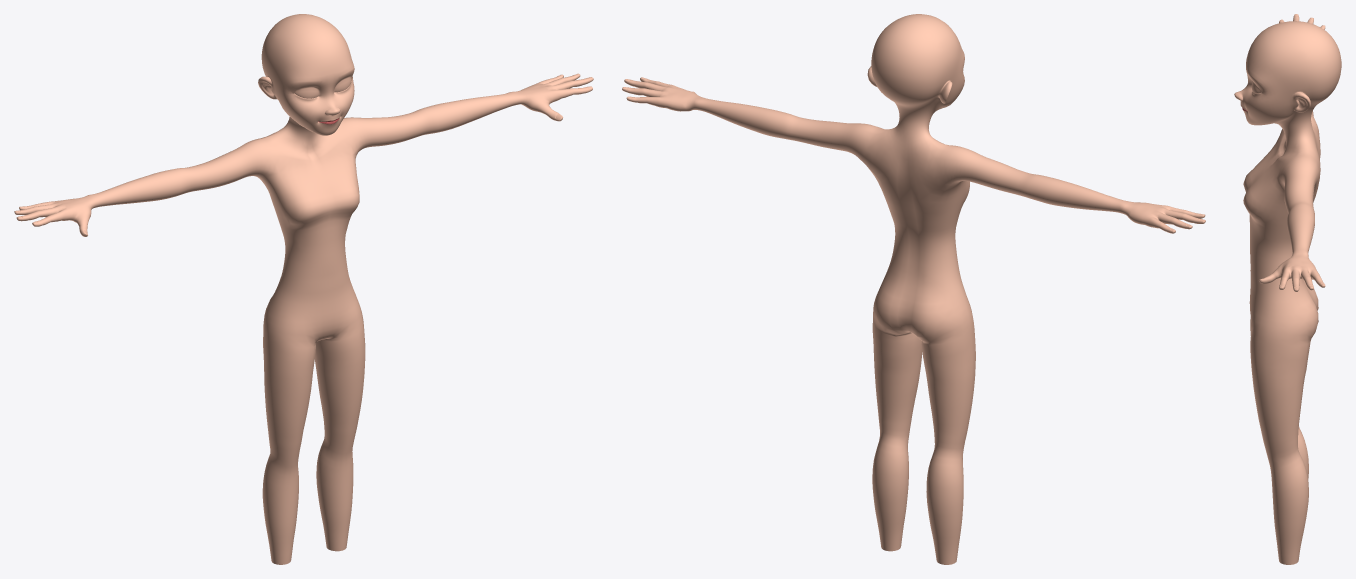
Rendered from MeryTemplete.obj.
3 views of the same model, side by side, from view 1: azimuth 30°, elevation 25°; view 2: azimuth 150°, elevation 25°; view 3: azimuth 270°, elevation 25° (orthographic). The views are drawn at different scales.
Visible parts, largest first — view 1: Mery_geo_cn_body; view 2: Mery_geo_cn_body; view 3: Mery_geo_cn_body.
Part boxes in pixels (x1,y1,x2,y2): Mery_geo_cn_body: (14, 14, 593, 564); Mery_geo_cn_body: (622, 14, 1205, 564); Mery_geo_cn_body: (1234, 14, 1341, 564).
Size of the model in its own units: 167 by 148 by 27.53.
